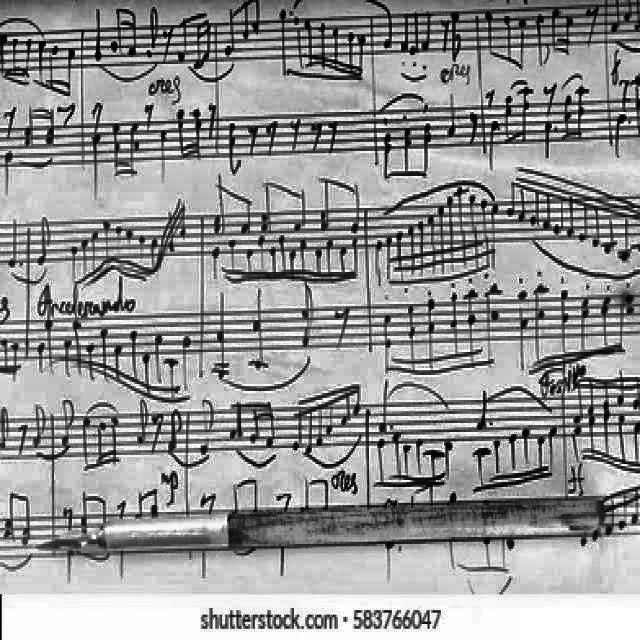Eighth-note: (377, 386, 448, 432), (476, 386, 544, 430), (34, 197, 54, 286), (224, 115, 244, 181), (473, 512, 495, 572), (313, 175, 332, 238), (199, 386, 213, 462), (143, 1, 161, 59), (178, 9, 194, 73), (317, 472, 333, 536), (212, 177, 228, 239), (503, 511, 517, 581), (260, 401, 280, 449), (30, 402, 48, 454), (484, 2, 498, 68), (58, 396, 74, 452), (370, 237, 386, 291), (222, 2, 236, 62), (259, 178, 273, 238), (110, 401, 122, 471), (448, 497, 460, 567), (240, 191, 256, 241), (36, 32, 50, 88), (3, 488, 17, 544), (452, 5, 464, 69), (0, 396, 12, 459), (504, 8, 516, 70), (128, 324, 138, 398), (382, 122, 394, 182), (566, 90, 578, 146), (134, 402, 146, 458), (168, 406, 180, 460), (298, 278, 314, 318), (470, 100, 480, 163), (12, 28, 24, 80), (504, 94, 516, 146), (402, 119, 411, 185), (422, 116, 431, 180), (518, 12, 526, 80), (579, 81, 589, 135), (296, 191, 308, 235), (232, 394, 244, 438), (302, 472, 310, 538), (401, 7, 411, 58), (54, 36, 62, 96), (68, 46, 76, 106), (84, 412, 92, 472), (27, 26, 35, 82), (424, 6, 432, 60), (242, 1, 250, 52), (412, 7, 420, 55), (3, 332, 11, 380), (251, 0, 261, 36), (100, 406, 106, 466), (208, 22, 216, 64), (524, 90, 530, 146), (15, 326, 21, 376), (254, 402, 258, 450), (26, 492, 29, 548)
Eighth-rest: (307, 94, 325, 170), (322, 103, 340, 169), (263, 114, 285, 162), (331, 300, 354, 344), (584, 0, 604, 50), (288, 99, 302, 170), (245, 112, 261, 164), (158, 11, 174, 61), (540, 78, 558, 120), (158, 474, 178, 511), (150, 408, 162, 468), (4, 98, 20, 142), (274, 481, 294, 515), (206, 95, 218, 149), (14, 417, 26, 463), (441, 7, 451, 58), (116, 498, 130, 534), (200, 489, 216, 519), (58, 104, 74, 132), (620, 68, 632, 104), (140, 97, 156, 123), (63, 504, 73, 540), (90, 96, 102, 125), (484, 86, 498, 110)
Quarter-note: (211, 292, 231, 376), (442, 94, 462, 162), (534, 275, 550, 353), (516, 279, 528, 373), (616, 282, 636, 338), (248, 292, 264, 360), (154, 125, 170, 187), (596, 279, 612, 341), (91, 0, 105, 68), (348, 180, 364, 236), (489, 112, 501, 180), (381, 4, 395, 61), (2, 152, 18, 196), (578, 291, 590, 347), (8, 214, 18, 280), (90, 128, 100, 192), (559, 282, 569, 346), (534, 15, 546, 67), (616, 108, 628, 156), (208, 249, 222, 287), (296, 322, 312, 354), (612, 1, 622, 46), (542, 122, 554, 154), (1, 28, 8, 76), (626, 0, 634, 38), (634, 1, 640, 46)
Sixteenth-note: (424, 292, 440, 388), (461, 284, 477, 370), (402, 307, 422, 373), (378, 308, 396, 377), (167, 342, 185, 402), (171, 106, 189, 164), (44, 312, 58, 383), (474, 449, 494, 495), (112, 7, 128, 61), (372, 440, 390, 488), (112, 117, 126, 177), (336, 378, 352, 430), (353, 213, 363, 290), (26, 98, 38, 162), (252, 238, 268, 286), (314, 384, 326, 448), (72, 311, 84, 373), (248, 473, 258, 545), (294, 388, 304, 458), (130, 6, 140, 74), (194, 20, 206, 76), (550, 5, 562, 60), (62, 324, 72, 390), (240, 250, 256, 290), (154, 320, 162, 400), (130, 120, 140, 183), (112, 332, 124, 384), (195, 104, 205, 164), (422, 439, 438, 476), (572, 420, 586, 462), (562, 2, 572, 58), (338, 232, 348, 288), (306, 393, 314, 463), (422, 482, 436, 522), (230, 476, 240, 532), (298, 232, 310, 276), (88, 334, 99, 382), (226, 240, 238, 282), (102, 321, 110, 384), (576, 377, 588, 419), (404, 437, 414, 487), (312, 232, 322, 280), (610, 368, 622, 408), (80, 487, 90, 535), (504, 434, 516, 474), (605, 494, 617, 534), (40, 330, 49, 382), (327, 373, 333, 447), (392, 440, 403, 480), (442, 436, 453, 476), (143, 328, 149, 400), (492, 274, 496, 382), (520, 432, 528, 486), (614, 419, 624, 461), (146, 484, 156, 526), (325, 228, 333, 280), (286, 231, 294, 281), (545, 428, 555, 468), (354, 369, 362, 417), (492, 440, 500, 488), (632, 373, 640, 419), (280, 228, 286, 288), (596, 422, 608, 452), (413, 436, 423, 472), (588, 374, 596, 418), (630, 430, 640, 464), (134, 490, 142, 532), (599, 377, 607, 417), (48, 102, 54, 154), (102, 488, 108, 540), (270, 243, 278, 280), (451, 286, 454, 378), (586, 414, 592, 460), (592, 507, 600, 541), (536, 443, 544, 473), (411, 494, 419, 520), (631, 488, 637, 520), (582, 509, 586, 549), (620, 494, 624, 530), (484, 384, 486, 384), (94, 540, 98, 540)
